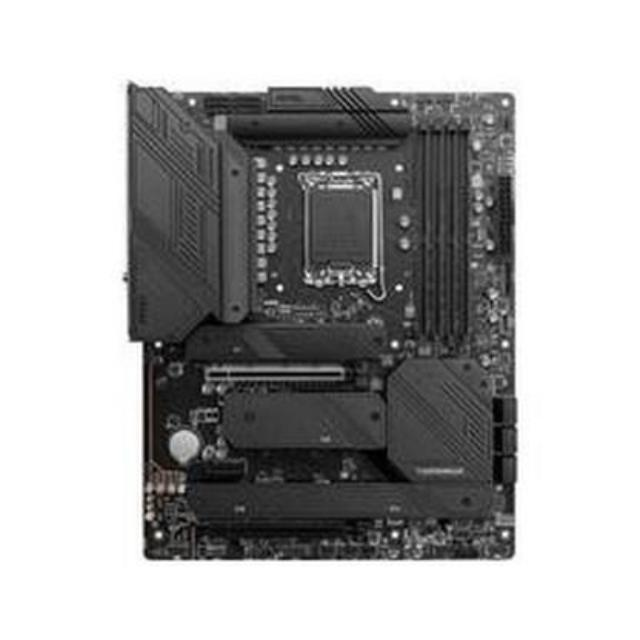Mainboard: (118, 71, 533, 574)
